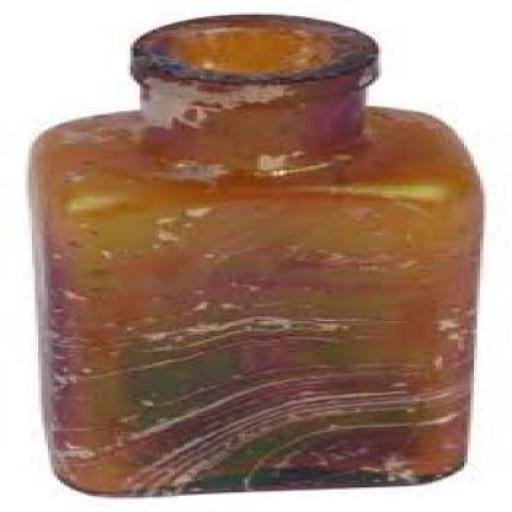glass: (25, 11, 481, 497)
